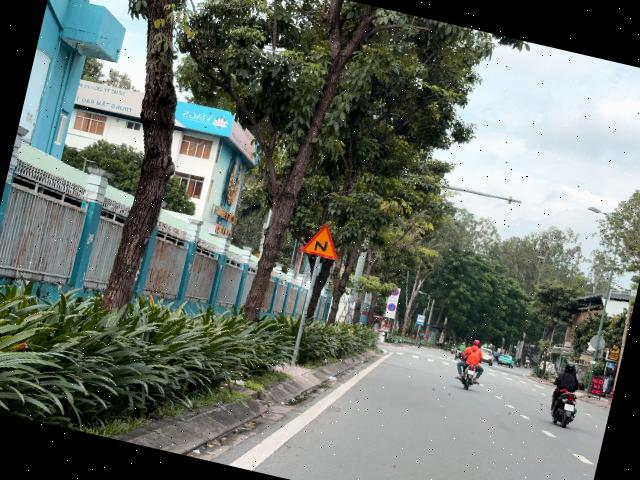nhieu-cho-ngoat-nguy-hiem-lien-tiep: (300, 219, 344, 260)
